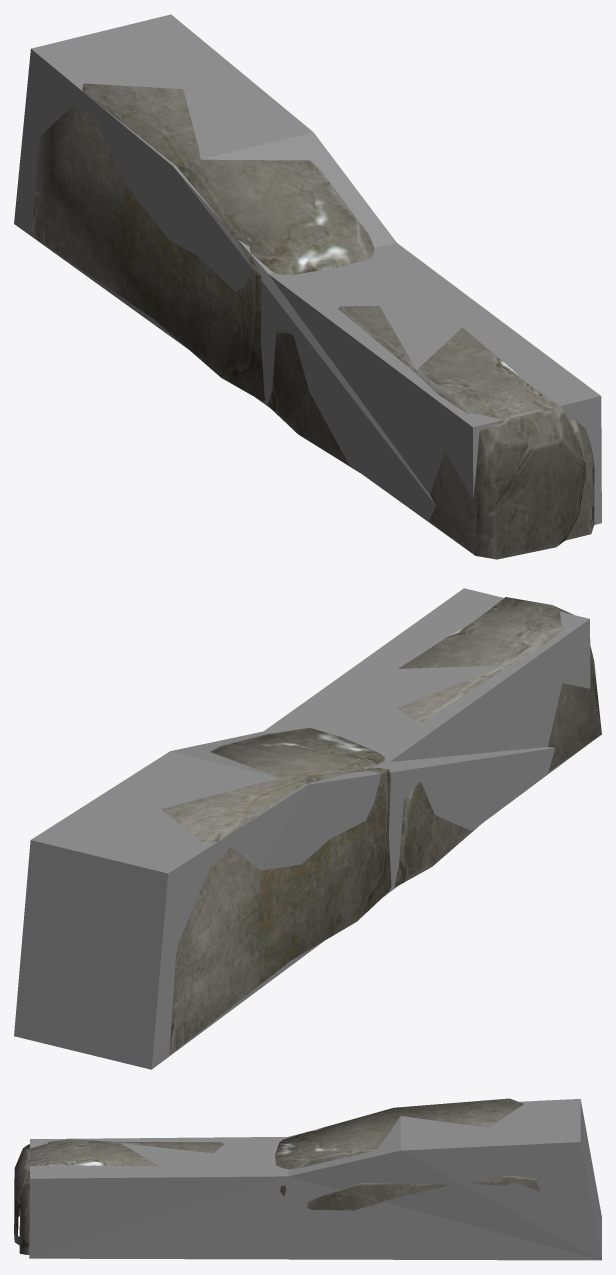
File: Scene_Rock_TianShan_SuiShiTi_7.FBX
3 views of the same model, one above another, from view 1: azimuth 30°, elevation 25°; view 2: azimuth 150°, elevation 25°; view 3: azimuth 270°, elevation 25° (orthographic). The views are drawn at different scales.
Parts seen in each view (by area): view 1: Scene_Rock_TianShan_SuiShiTi_7, Scene_Rock_TianShan_SuiShiTi_7_Xzm; view 2: Scene_Rock_TianShan_SuiShiTi_7_Xzm, Scene_Rock_TianShan_SuiShiTi_7; view 3: Scene_Rock_TianShan_SuiShiTi_7_Xzm, Scene_Rock_TianShan_SuiShiTi_7.
Part boxes in pixels (x1,y1,x2,y2): Scene_Rock_TianShan_SuiShiTi_7: [32, 83, 594, 559]; Scene_Rock_TianShan_SuiShiTi_7_Xzm: [14, 14, 601, 550]; Scene_Rock_TianShan_SuiShiTi_7_Xzm: [14, 588, 590, 1069]; Scene_Rock_TianShan_SuiShiTi_7: [161, 597, 601, 1054]; Scene_Rock_TianShan_SuiShiTi_7_Xzm: [29, 1099, 601, 1260]; Scene_Rock_TianShan_SuiShiTi_7: [14, 1098, 539, 1254].
Bounding box in the file's own units: 60.48 × 77.06 × 341.
